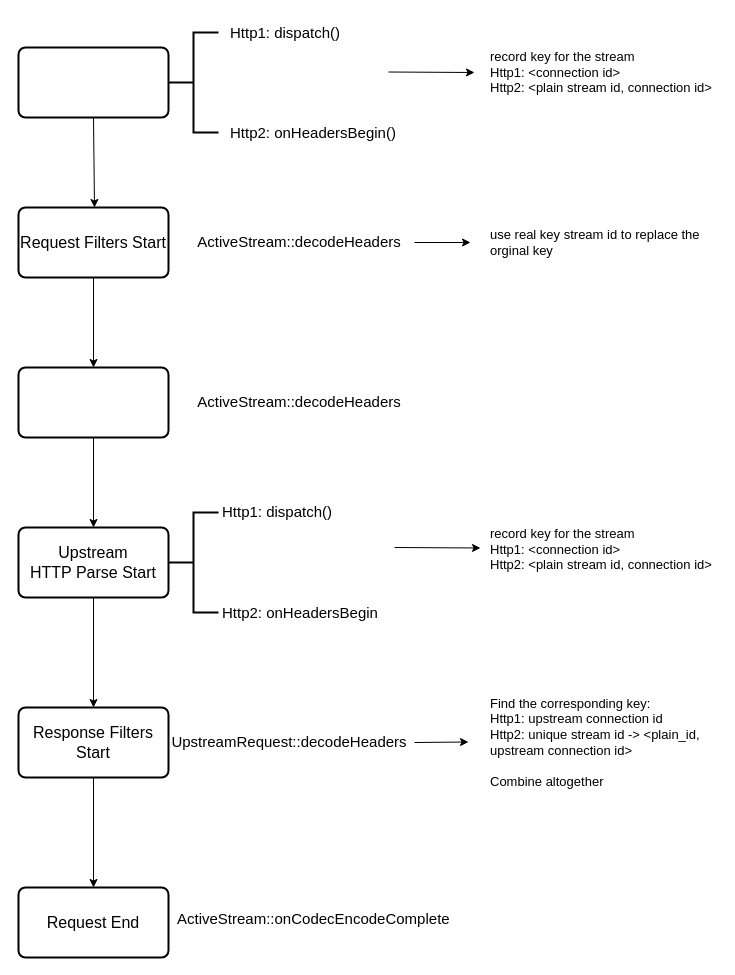
Image size: 735x975. Some labels were removed from this diagram. The shapes that lost their labels are listed below. From the top down, each one's centre as x and y in pixels, then its label:
the point at 93,82: HTTP Parse Start
the point at 93,402: Process Start
